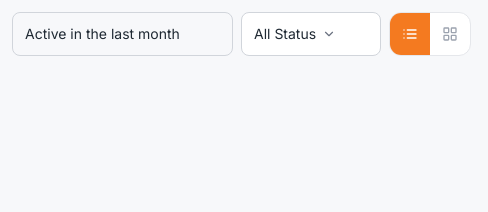
Test: RewardsToolbar › opens status dropdown on click
Click the button "All Status": (311,34) [241,12,381,56]
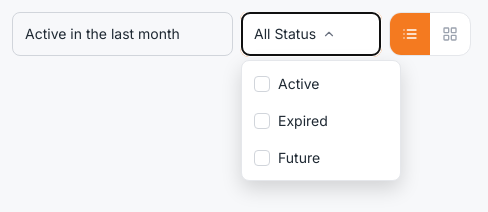
expect the text "Active" is shown: met, box [254,75,319,92]
expect the text "Expired" is shown: met, box [254,112,328,129]
expect the text "Future" is shown: met, box [254,149,320,166]
